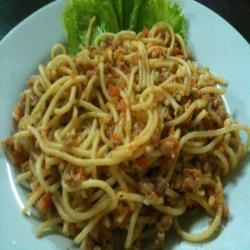bolonese_pasta: (13, 33, 239, 243)
salad: (54, 1, 201, 57)
